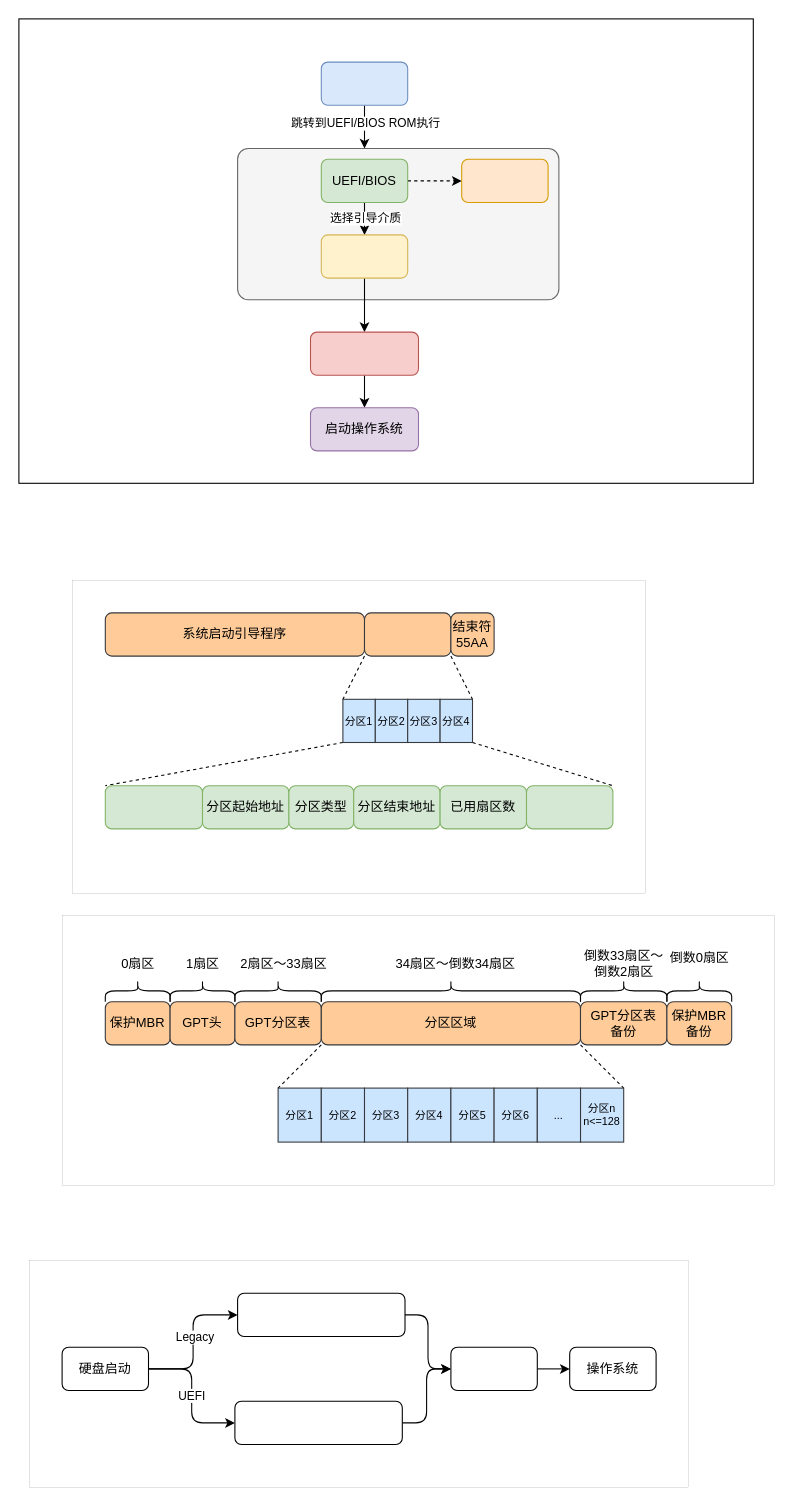
Some shapes in this 794 by 1507 pixel diagram are drawn without their labels. Each missing label, with the box of its shape:
CD-ROM、硬盘、网络: (320, 234, 408, 278)
DPT分区表: (363, 612, 451, 656)
GPT硬盘结构: (62, 915, 774, 1185)
GPT识别ESP启动: (234, 1400, 402, 1444)
MBR主引导扇区结构: (72, 580, 645, 893)
MBR识别分区启动: (237, 1292, 405, 1336)
引导加载程序: (309, 331, 418, 375)
引导标记: (104, 785, 202, 829)
引导程序: (450, 1346, 537, 1390)
总扇区数: (525, 785, 613, 829)
硬件自检、初始化设备: (461, 158, 548, 202)
硬盘启动流程: (29, 1260, 688, 1487)
系统上电: (320, 61, 408, 105)
